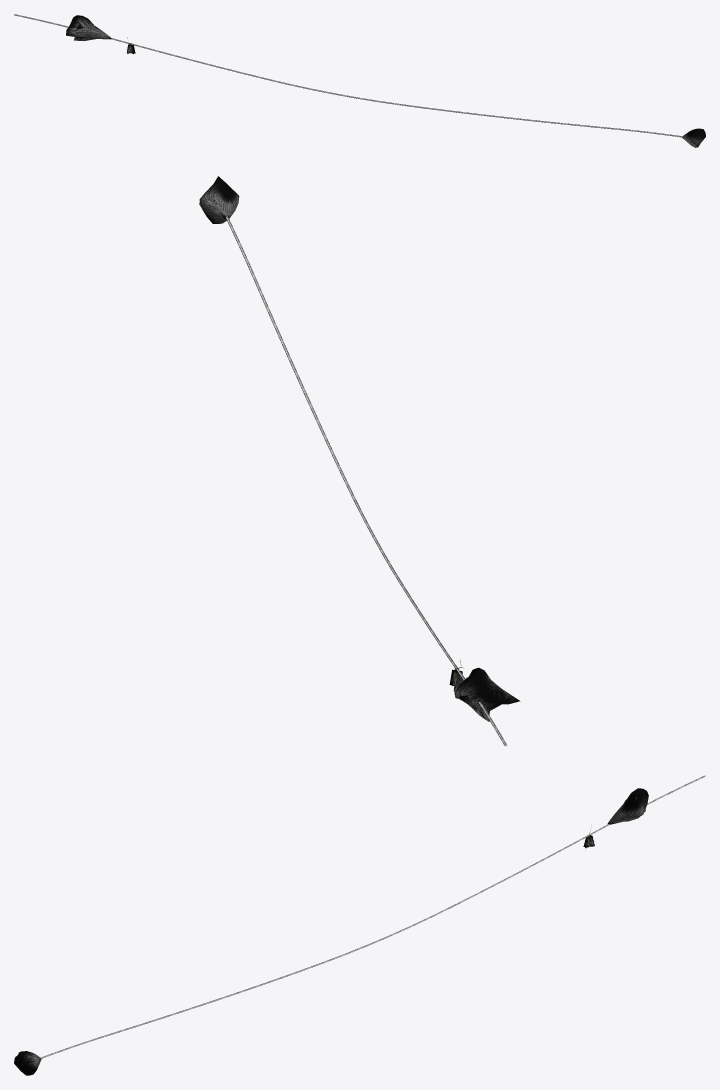
File: INST_MIRK_WEBZIPLINEB.fbx
3 views of the same model, one above another, from view 1: azimuth 30°, elevation 25°; view 2: azimuth 150°, elevation 25°; view 3: azimuth 270°, elevation 25° (orthographic). The views are drawn at different scales.
Parts seen in each view (by area): view 1: INST_MIRK_WEBZIPLINEB; view 2: INST_MIRK_WEBZIPLINEB; view 3: INST_MIRK_WEBZIPLINEB.
Part boxes in pixels (box(x1,y1,x2,y2)): INST_MIRK_WEBZIPLINEB: box(14, 14, 705, 147); INST_MIRK_WEBZIPLINEB: box(199, 176, 520, 745); INST_MIRK_WEBZIPLINEB: box(14, 775, 705, 1075).
Size of the model in its own units: 376849 by 38598 by 426668.
4 materials, 4 textured.
